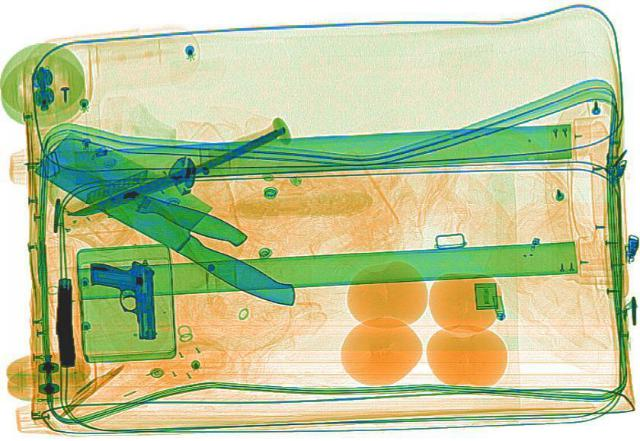Gun: (88, 258, 158, 339), (49, 277, 79, 366)
Knife: (18, 126, 336, 311), (26, 145, 252, 250), (65, 127, 292, 220)
